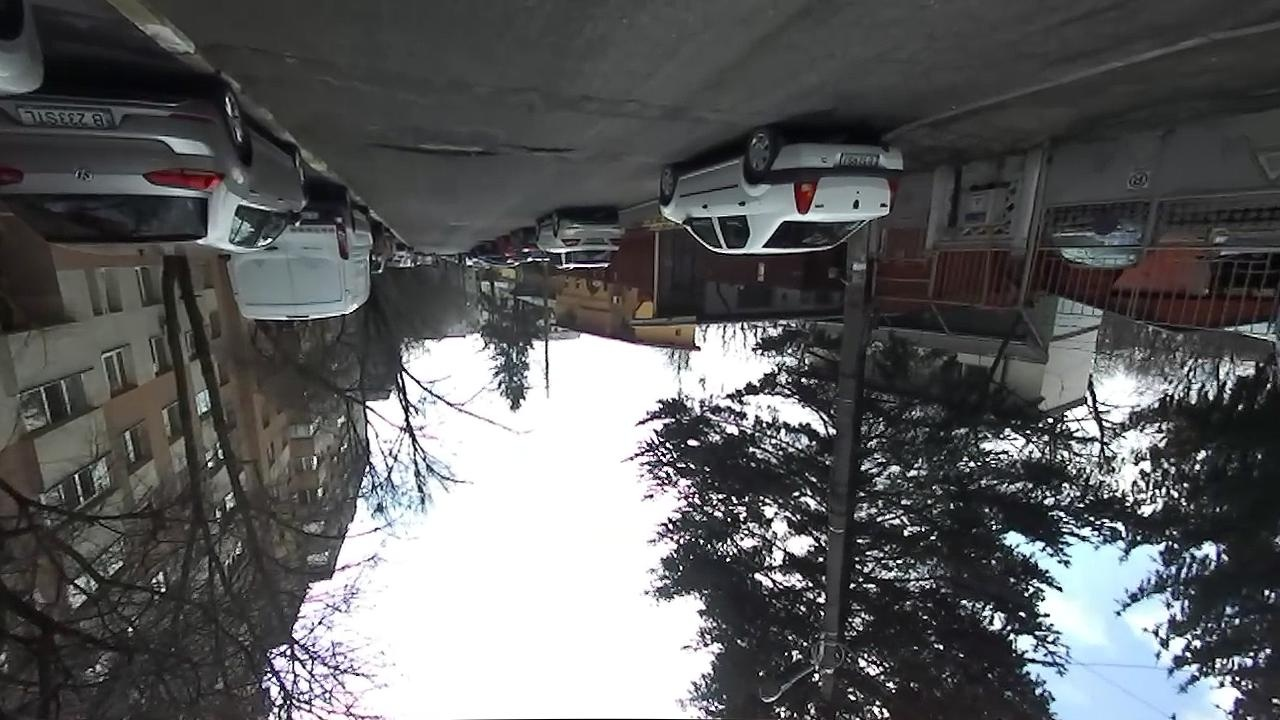pothole: (366, 140, 495, 160), (514, 144, 578, 158)
